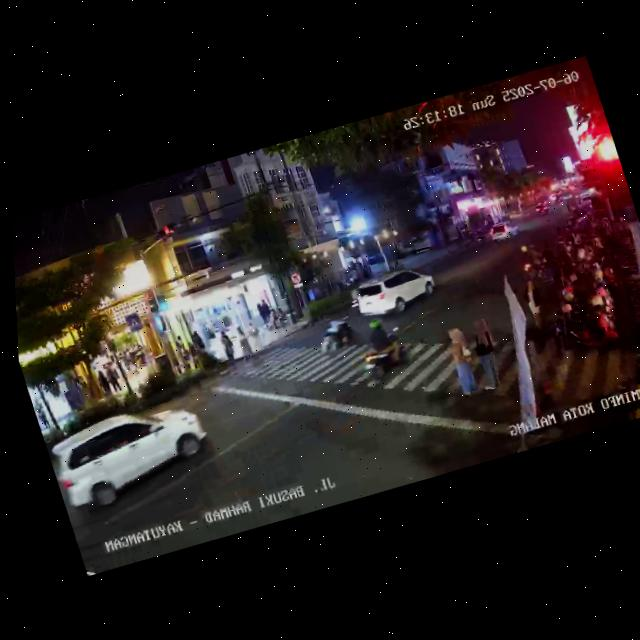car: (41, 392, 223, 522), (346, 261, 442, 326), (486, 217, 523, 246)
motorcycle: (344, 311, 421, 392), (312, 313, 366, 362)
person: (439, 323, 483, 400), (461, 321, 505, 391), (519, 277, 554, 332), (234, 323, 255, 360), (218, 329, 238, 364), (102, 362, 122, 395), (245, 316, 264, 347), (94, 365, 112, 397), (34, 400, 52, 428), (191, 329, 208, 355), (255, 301, 270, 327), (260, 298, 274, 324)
